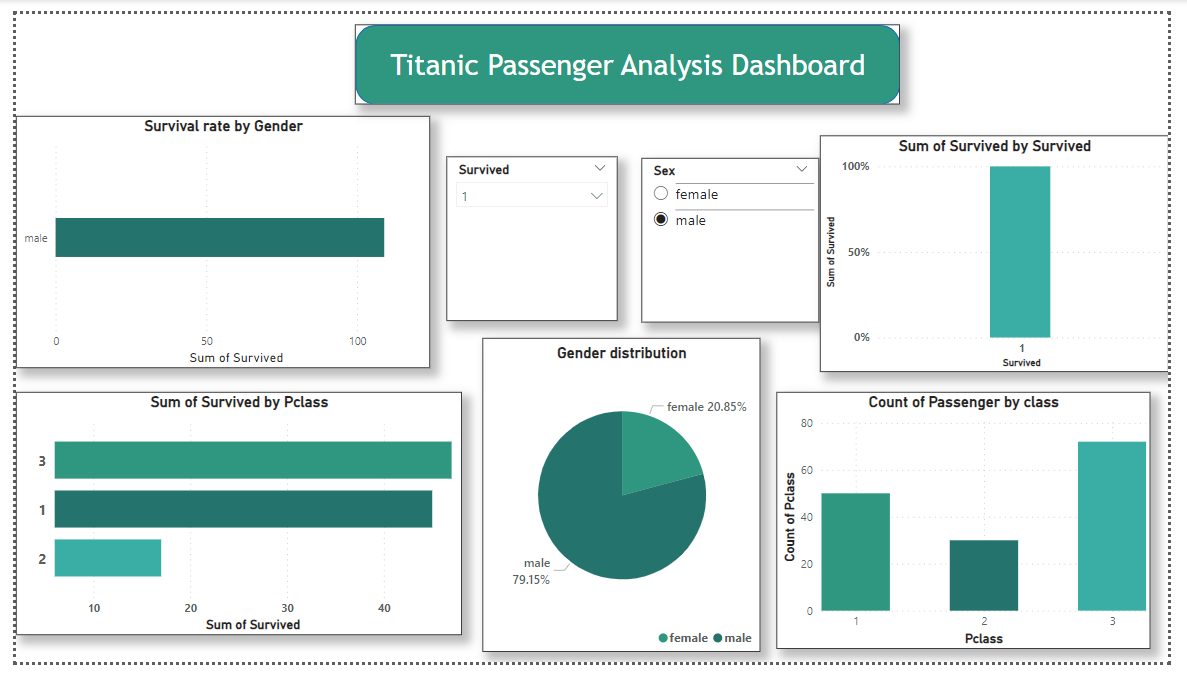

Layout of this report page (visuals, bound fields, positions):
{"tool":"powerbi","page":{"name":"Page 1","canvas":[1280,720],"ordinal":0},"visuals":[{"type":"clusteredBarChart","title":"Survival rate by Gender","fields":{"Y":["Sum(train.Survived)"],"Category":["train.Sex"]},"box":[0,112.5,460,280],"z":0},{"type":"shape","box":[376.7,11.7,605,88.3],"z":1000},{"type":"slicer","fields":{"Values":["gender_submission.Survived"]},"box":[477.5,157.5,190,182.5],"z":2000},{"type":"slicer","fields":{"Values":["train.Sex"]},"box":[695,160,197.5,182.5],"z":3000},{"type":"hundredPercentStackedColumnChart","fields":{"Y":["Sum(train.Survived)"],"Category":["gender_submission.Survived"]},"box":[892.5,135,387.5,262.5],"z":4000},{"type":"clusteredBarChart","fields":{"Y":["Sum(train.Survived)"],"Category":["train.Pclass"]},"box":[0,420,495,270],"z":5000},{"type":"pieChart","title":"Gender distribution","fields":{"Y":["CountNonNull(test.Sex)","CountNonNull(train.Sex)"]},"box":[518.3,360,308.3,348.3],"z":6000},{"type":"clusteredColumnChart","title":"Count of Passenger by class","fields":{"Y":["CountNonNull(gender_submission.PassengerId)"],"Category":["test.Pclass"]},"box":[845,420,415,285],"z":7000}]}

Visuals, with their boxes in screenshot pixels (x1, y1, x2, y2), scaled from the page's 1280x720 canvas onto the 1187x676 screenshot:
"Survival rate by Gender" clusteredBarChart: x1=0 y1=106 x2=427 y2=369
shape: x1=349 y1=11 x2=910 y2=94
slicer - gender_submission.Survived: x1=443 y1=148 x2=619 y2=319
slicer - train.Sex: x1=645 y1=150 x2=828 y2=322
hundredPercentStackedColumnChart - Sum(train.Survived) x gender_submission.Survived: x1=828 y1=127 x2=1186 y2=373
clusteredBarChart - Sum(train.Survived) x train.Pclass: x1=0 y1=394 x2=459 y2=648
"Gender distribution" pieChart: x1=481 y1=338 x2=767 y2=665
"Count of Passenger by class" clusteredColumnChart: x1=784 y1=394 x2=1168 y2=662
